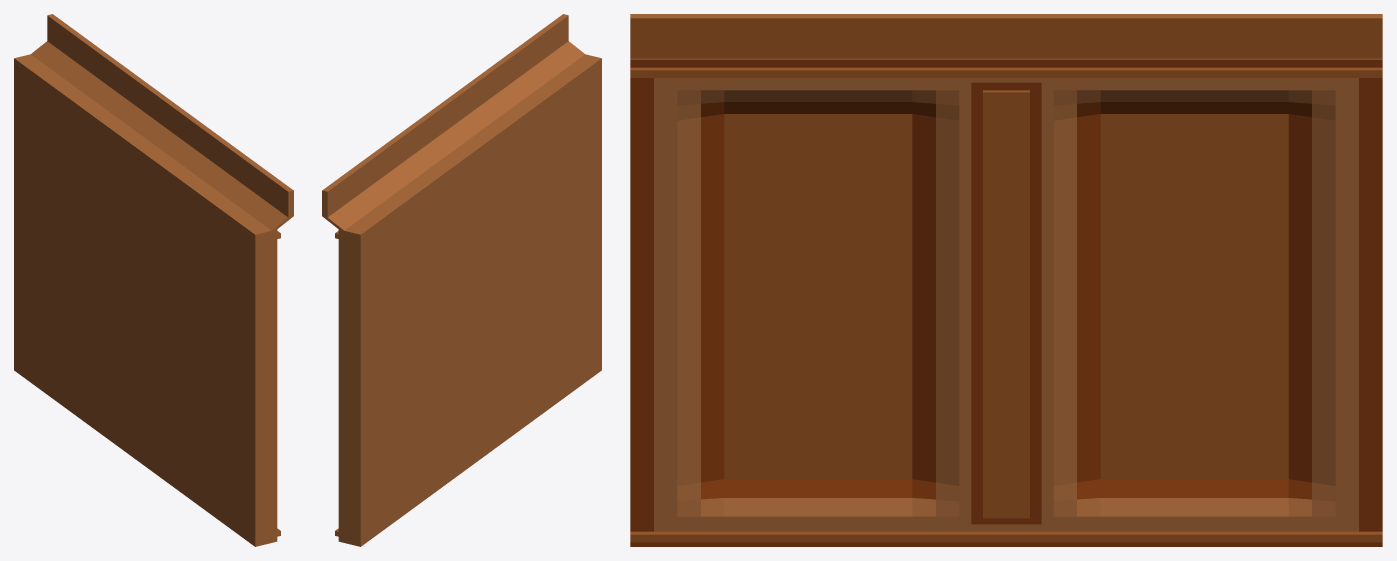
The model's file is elevatorWall.fbx.
3 renders of one model, left to right at view 1: azimuth 30°, elevation 25°; view 2: azimuth 150°, elevation 25°; view 3: azimuth 270°, elevation 25°, orthographic. The views are drawn at different scales.
Visible parts, largest first — view 1: Cube; view 2: Cube; view 3: Cube.
Part boxes in pixels (box(x1,y1,x2,y2)): Cube: box(14, 14, 293, 546); Cube: box(322, 14, 601, 546); Cube: box(630, 14, 1382, 546).
Bounding box in the file's own units: 32.33 × 278 × 350.
